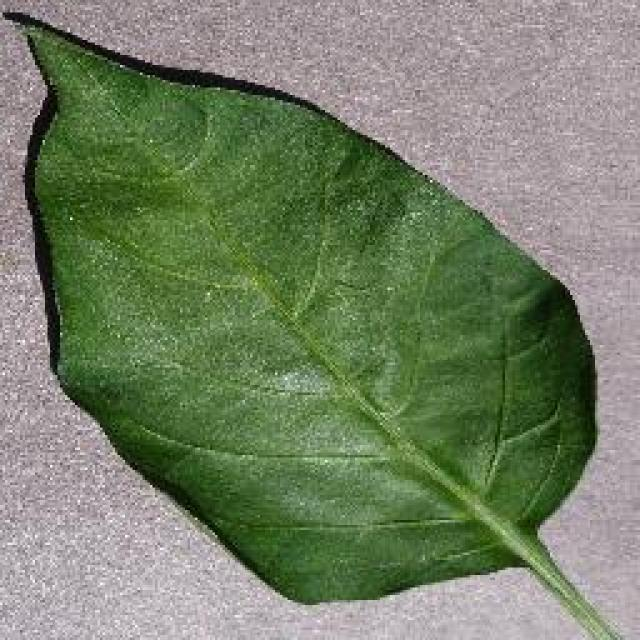Leaf: (6, 14, 612, 634)
